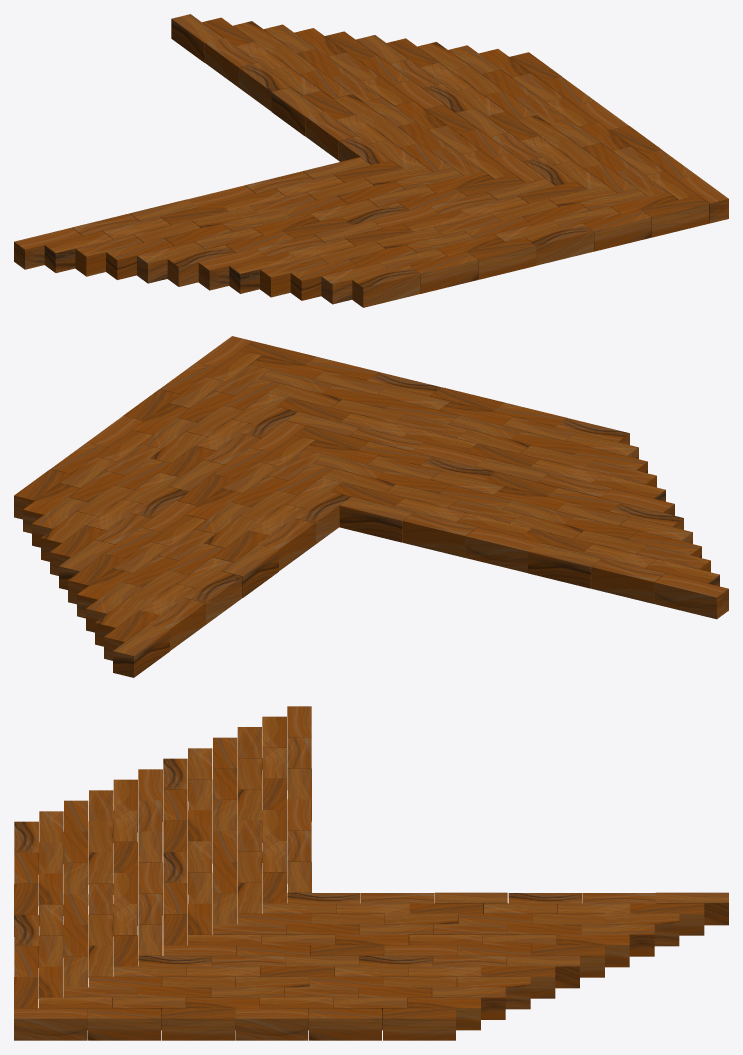
File: DiagonalStraightPerpendicular.glb
The picture shows the model from 3 angles, top to bottom: view 1: azimuth 30°, elevation 25°; view 2: azimuth 150°, elevation 25°; view 3: azimuth 270°, elevation 25°; orthographic projection. The views are drawn at different scales.
Visible parts, largest first — view 1: DiagonalStraightPerpendicular; view 2: DiagonalStraightPerpendicular; view 3: DiagonalStraightPerpendicular.
Part boxes in pixels (bbox=[...]): DiagonalStraightPerpendicular: bbox=[14, 14, 728, 307]; DiagonalStraightPerpendicular: bbox=[14, 336, 728, 677]; DiagonalStraightPerpendicular: bbox=[14, 706, 728, 1040].
Size of the model in its own units: 12.11 by 0.4 by 11.71.
Materials: 1 (1 with a texture image).
